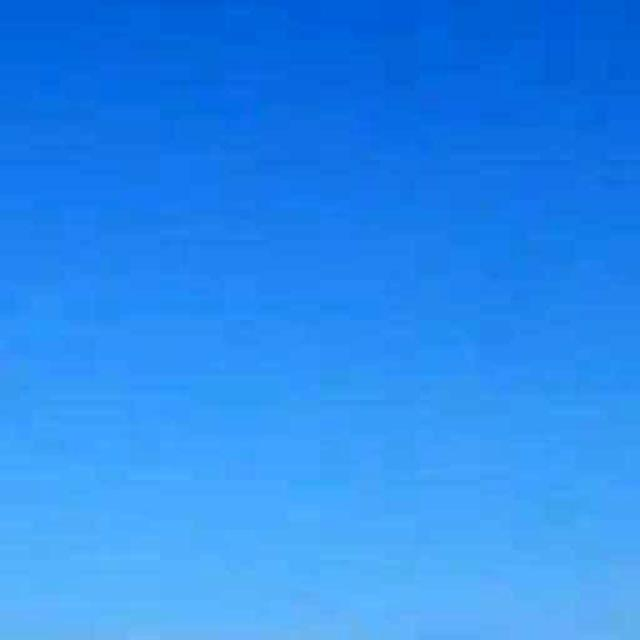drone: (396, 501, 460, 571)
